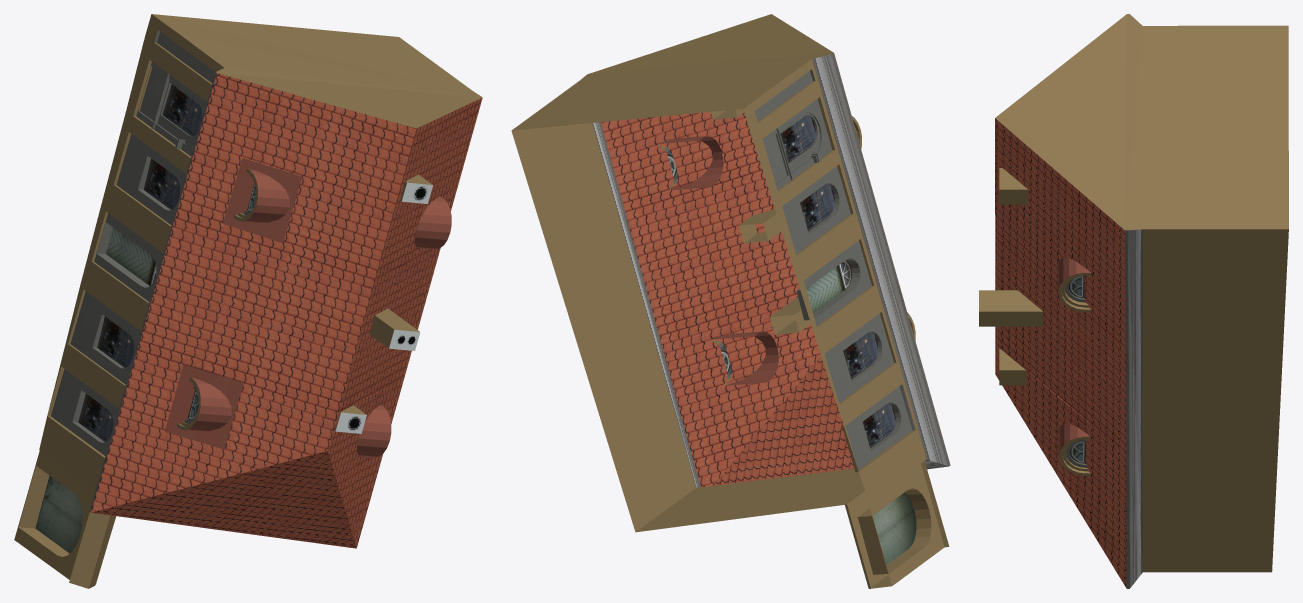
File: Pikk_70_2.obj
3 views of the same model, side by side, from view 1: azimuth 30°, elevation 25°; view 2: azimuth 150°, elevation 25°; view 3: azimuth 270°, elevation 25° (orthographic). The views are drawn at different scales.
Parts seen in each view (by area): view 1: Pikk_70_2; view 2: Pikk_70_2; view 3: Pikk_70_2.
Boxes of the visible parts, left/top/right/bottom form: Pikk_70_2: left=14, top=14, right=482, bottom=588; Pikk_70_2: left=511, top=14, right=950, bottom=588; Pikk_70_2: left=979, top=14, right=1288, bottom=588.
Bounding box in the file's own units: 12.68 × 15.43 × 8.54.
